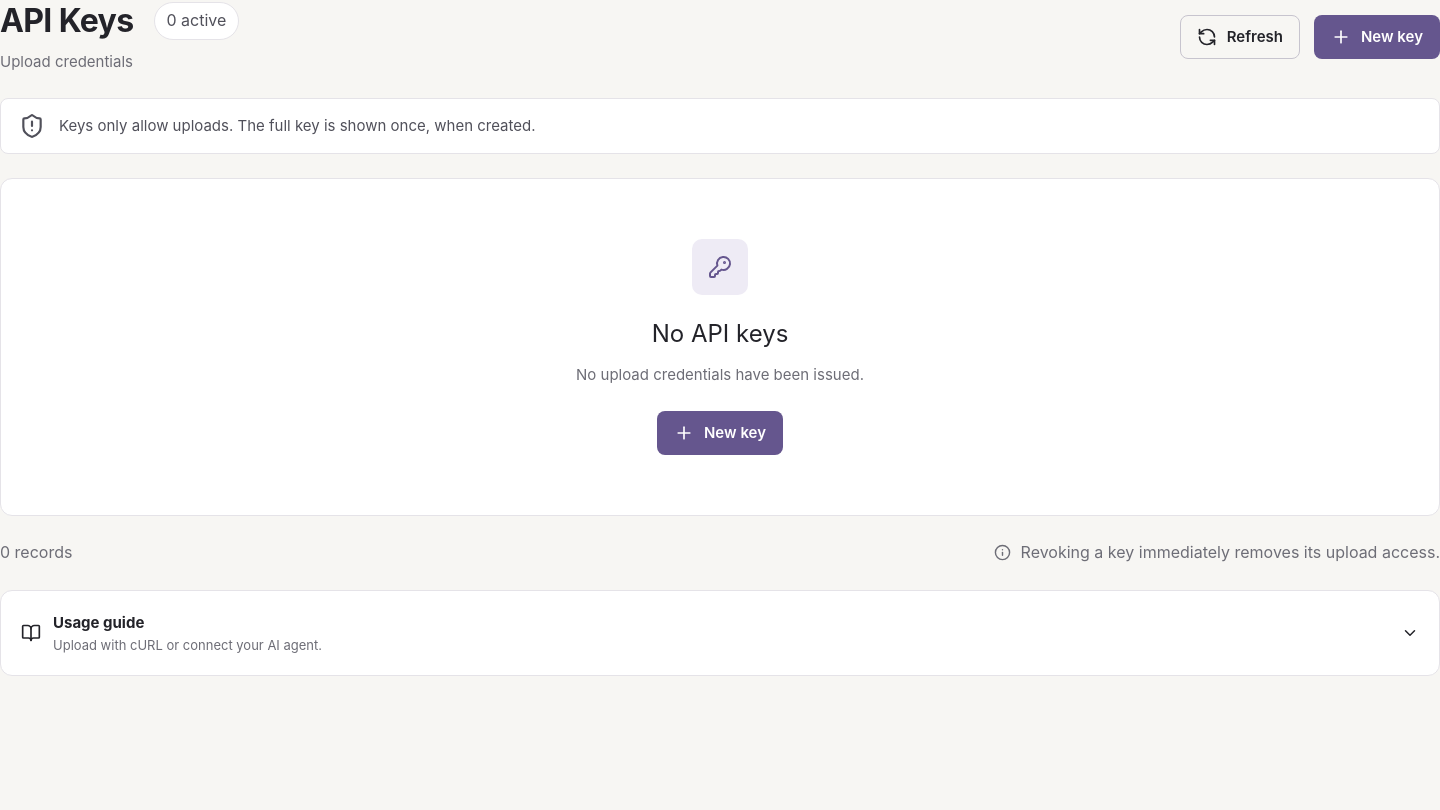
ApiKeysPage › creates a key and reveals its token once
Expected: the heading "No API keys" is shown, 652,319 -> 788,348
Click the button "New key" in the row of "0 active": {"x": 1377, "y": 37} 1314,15 -> 1439,59
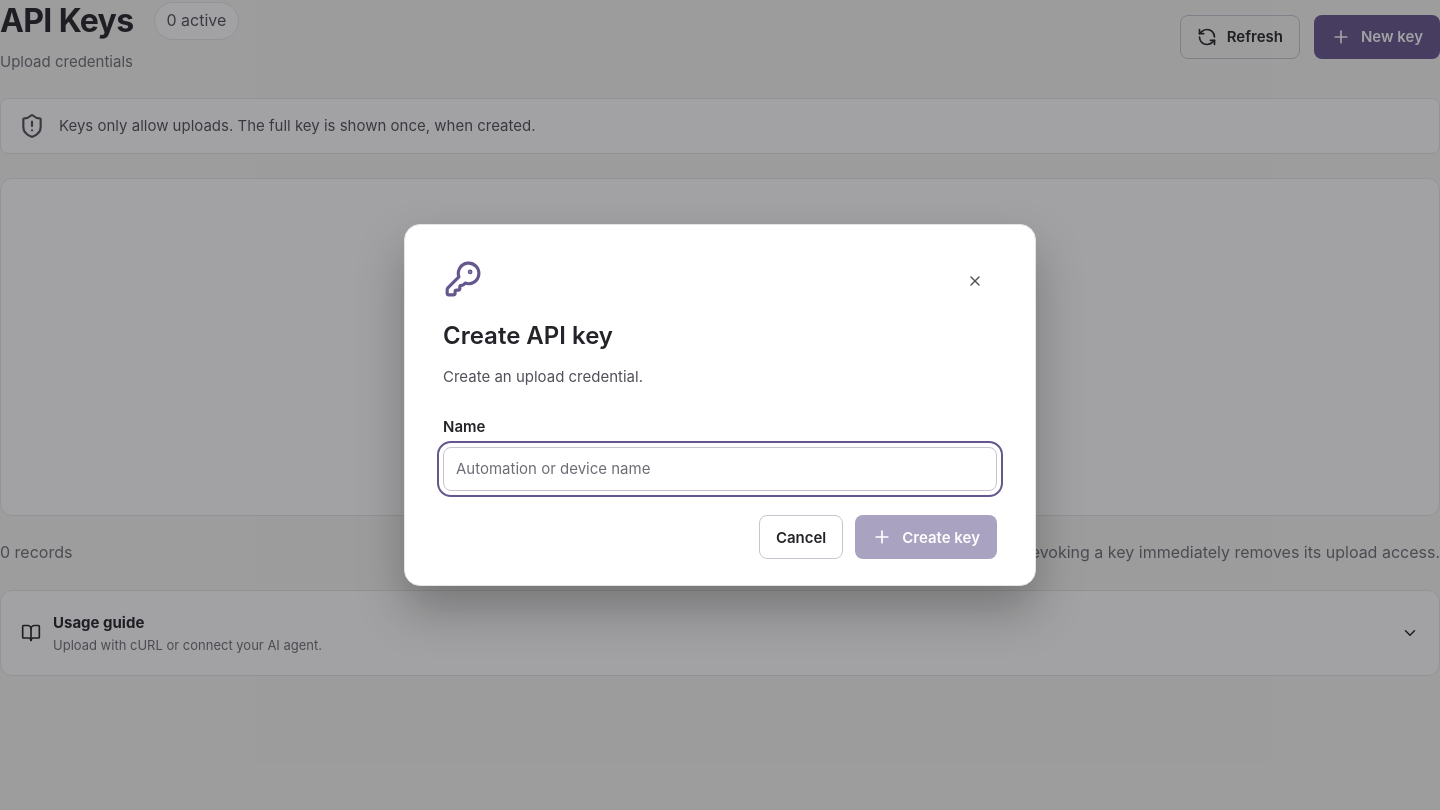
In the field with placeholder "Automation or device name": {"x": 720, "y": 469} 443,447 -> 997,491, type "CI uploader"
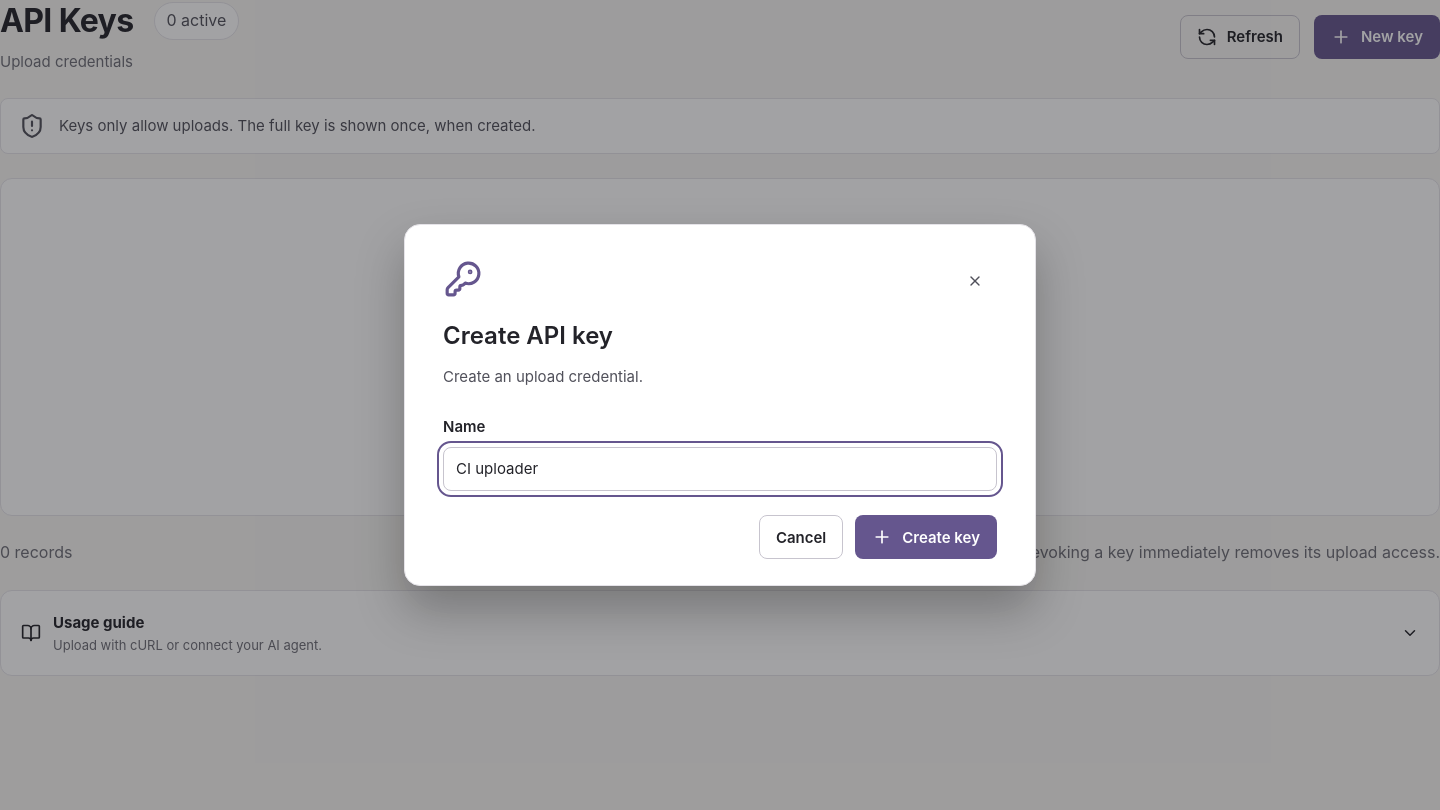
Click the button "Create key": {"x": 926, "y": 537} 855,515 -> 997,559
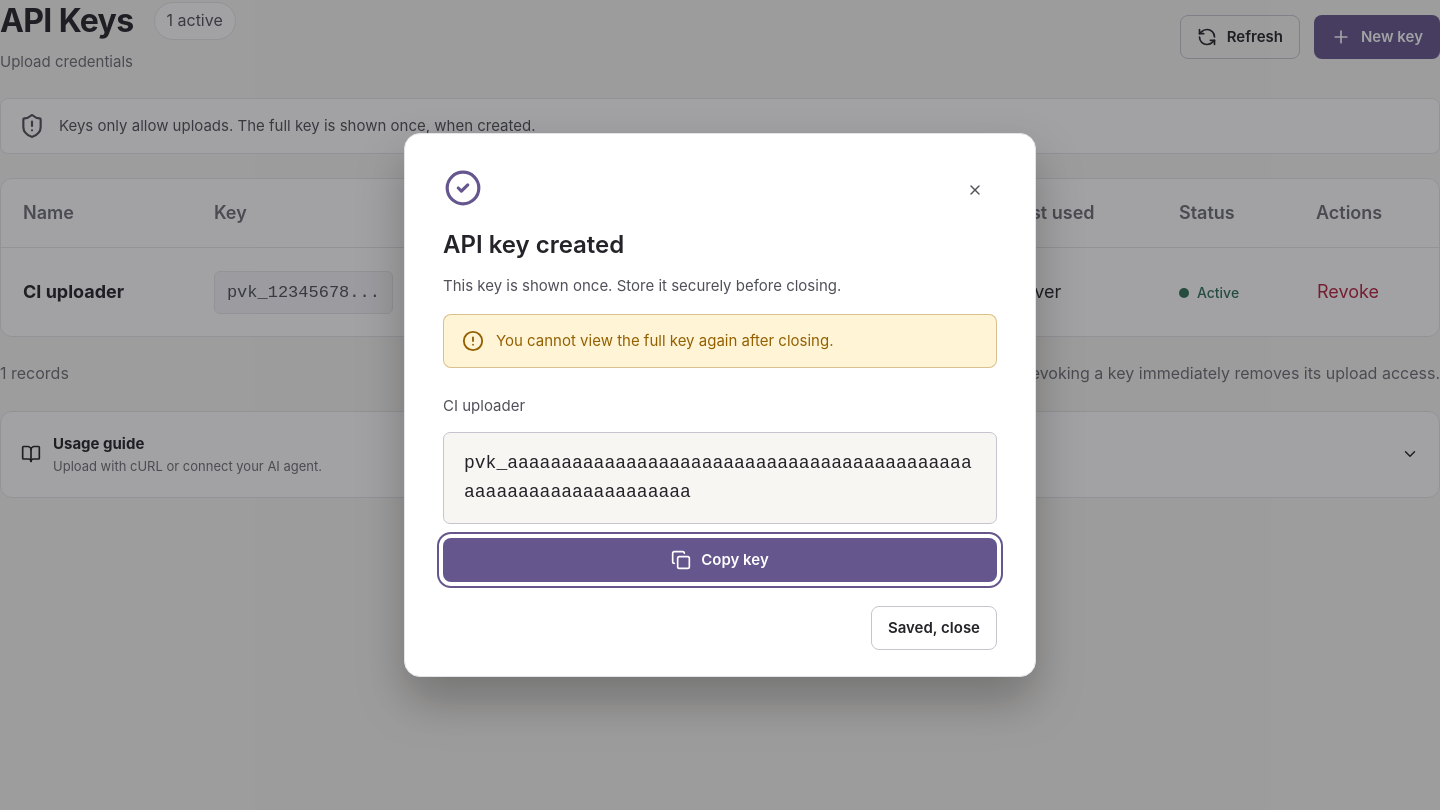
Expected: the heading "API key created" is shown, 443,230 -> 624,259
